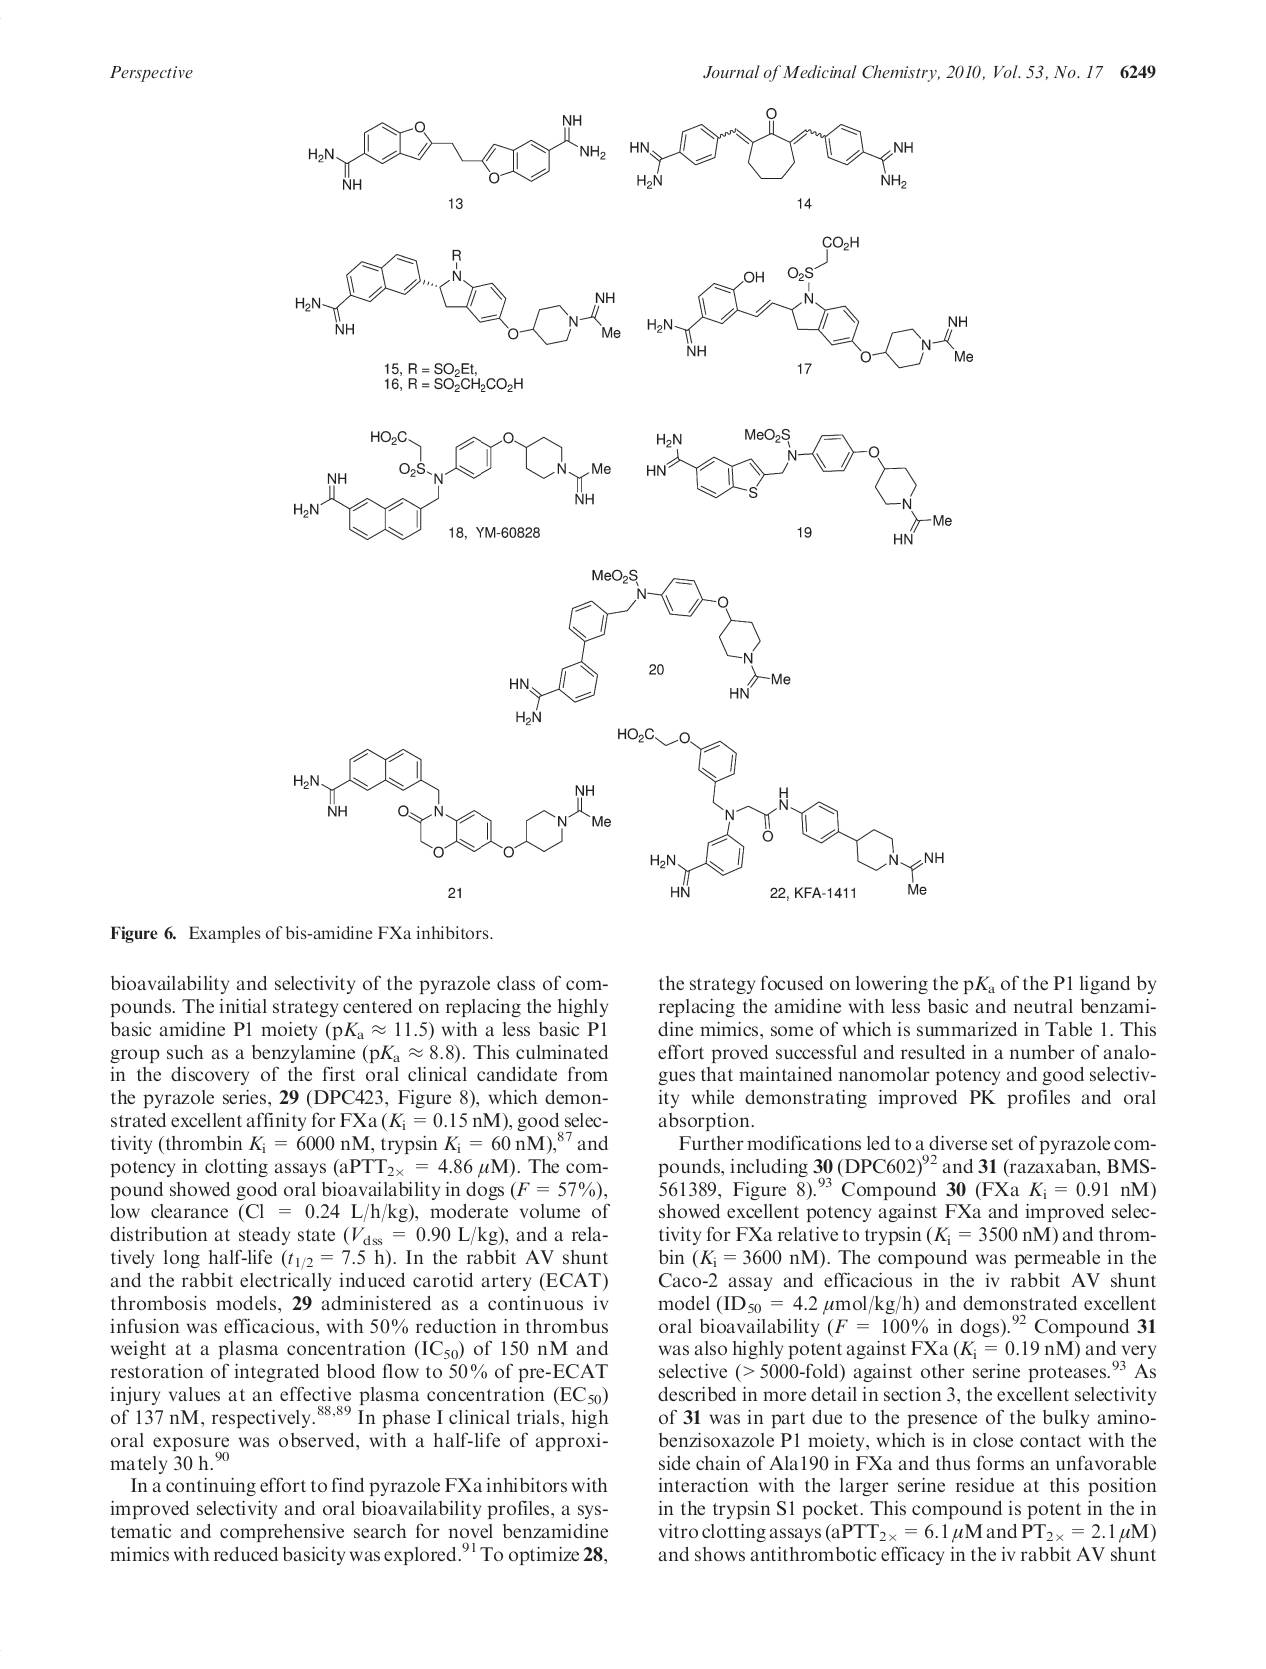exist_molecular: (614, 723, 947, 902), (499, 567, 797, 729), (646, 231, 981, 374), (290, 415, 616, 539), (637, 424, 952, 551), (293, 743, 613, 858), (287, 247, 622, 356), (628, 100, 916, 199), (305, 106, 614, 195)
